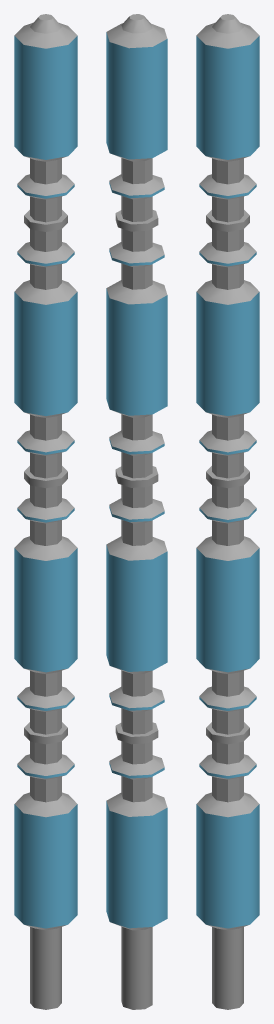
Rendered from fencePole.fbx.
3 renders of one model, left to right at view 1: azimuth 90°, elevation 25°; view 2: azimuth 210°, elevation 25°; view 3: azimuth 270°, elevation 25°, orthographic.
Visible parts, largest first — view 1: fencePole; view 2: fencePole; view 3: fencePole.
Part boxes in pixels (<box>): fencePole: <box>14,14,77,1009</box>; fencePole: <box>106,14,167,1009</box>; fencePole: <box>196,14,259,1009</box>.
Bounding box in the file's own units: 1.73 × 29.75 × 1.73.
